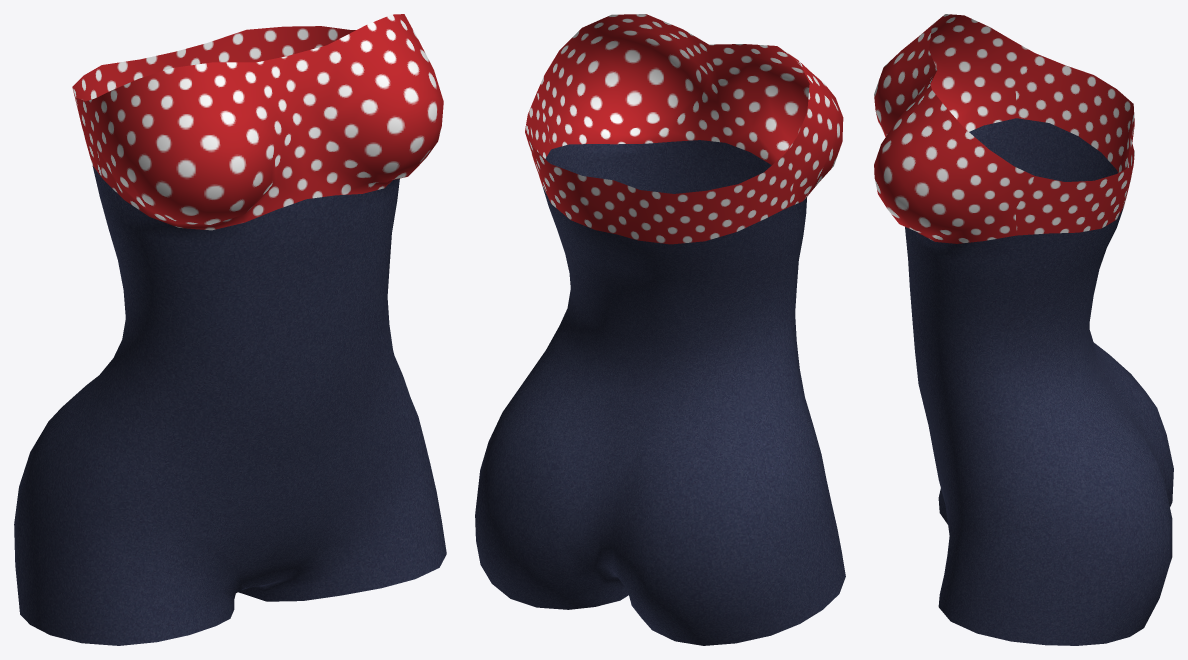
File: OnePieceShorts.dae
3 views of the same model, side by side, from view 1: azimuth 30°, elevation 25°; view 2: azimuth 150°, elevation 25°; view 3: azimuth 270°, elevation 25° (orthographic). The views are drawn at different scales.
Parts seen in each view (by area): view 1: OnePieceShorts; view 2: OnePieceShorts; view 3: OnePieceShorts.
Part boxes in pixels (left/top/right/bottom): OnePieceShorts: left=14, top=14, right=446, bottom=645; OnePieceShorts: left=475, top=14, right=845, bottom=645; OnePieceShorts: left=874, top=14, right=1173, bottom=645.
Bounding box in the file's own units: 0.3803 × 0.2918 × 0.5625.
